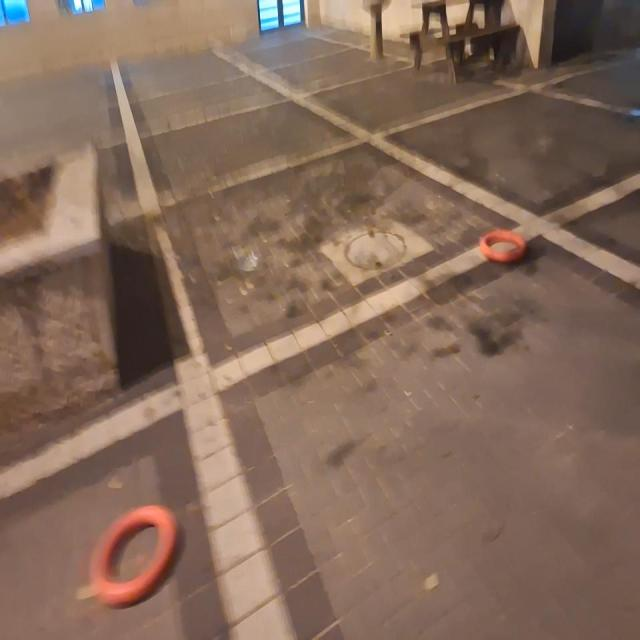note: (90, 504, 177, 607), (480, 228, 528, 265)
